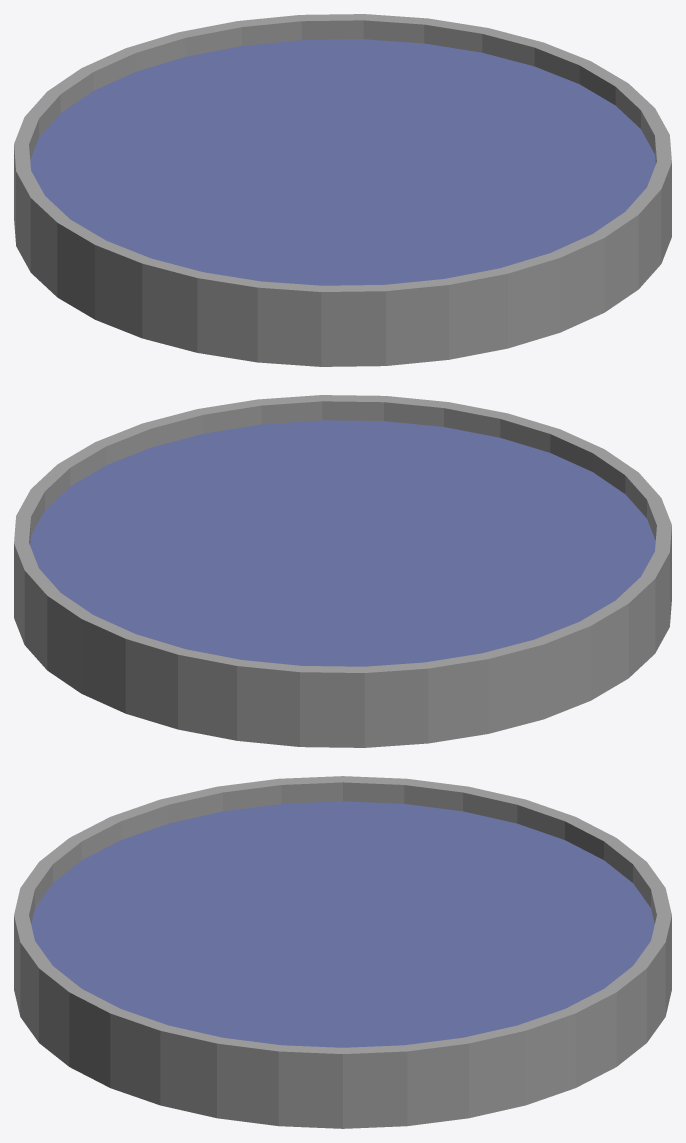
The model's file is Badebassin.fbx.
The picture shows the model from 3 angles, top to bottom: view 1: azimuth 30°, elevation 25°; view 2: azimuth 150°, elevation 25°; view 3: azimuth 270°, elevation 25°; orthographic projection.
Visible parts, largest first — view 1: Cylinder.001, Cylinder; view 2: Cylinder.001, Cylinder; view 3: Cylinder.001, Cylinder.
Boxes of the visible parts, x1,y1,x2,y2 form: Cylinder.001: [30, 39, 655, 285]; Cylinder: [14, 14, 671, 366]; Cylinder.001: [30, 420, 655, 666]; Cylinder: [14, 395, 671, 747]; Cylinder.001: [31, 801, 654, 1047]; Cylinder: [14, 776, 671, 1128].
Size of the model in its own units: 1497 by 188 by 1497.
